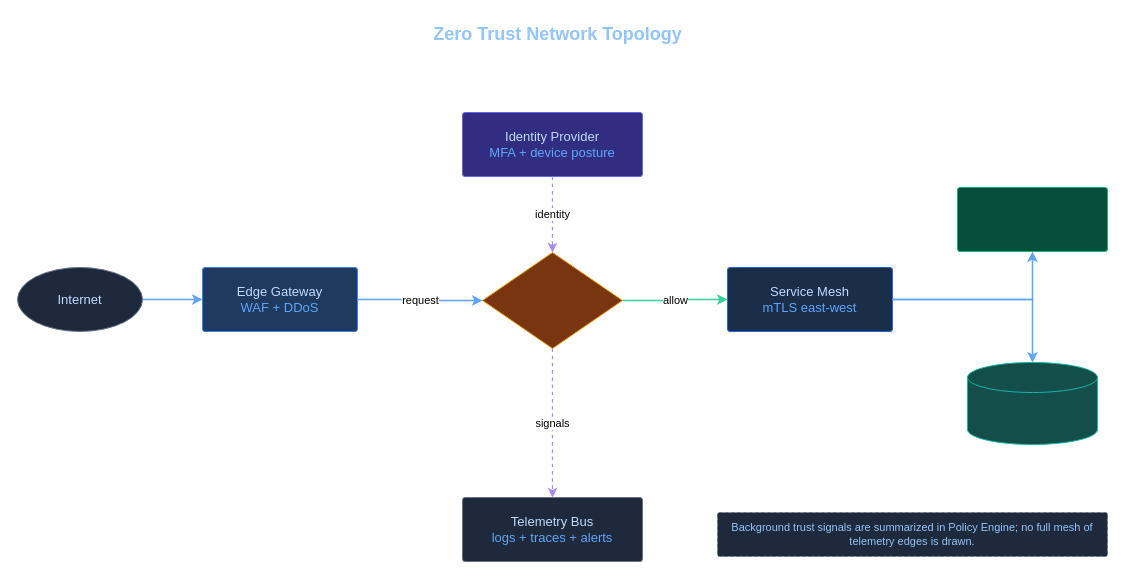
Some shapes in this 1125 by 579 pixel diagram are drawn without their labels. Here are the shapes that lost their labels. From the top down, the centre of each, then its label:
At (x=1032, y=219): "Private Apps API + admin".
At (x=552, y=300): "Policy Engine risk decision".
At (x=1032, y=403): "Data Services DB + object store".
